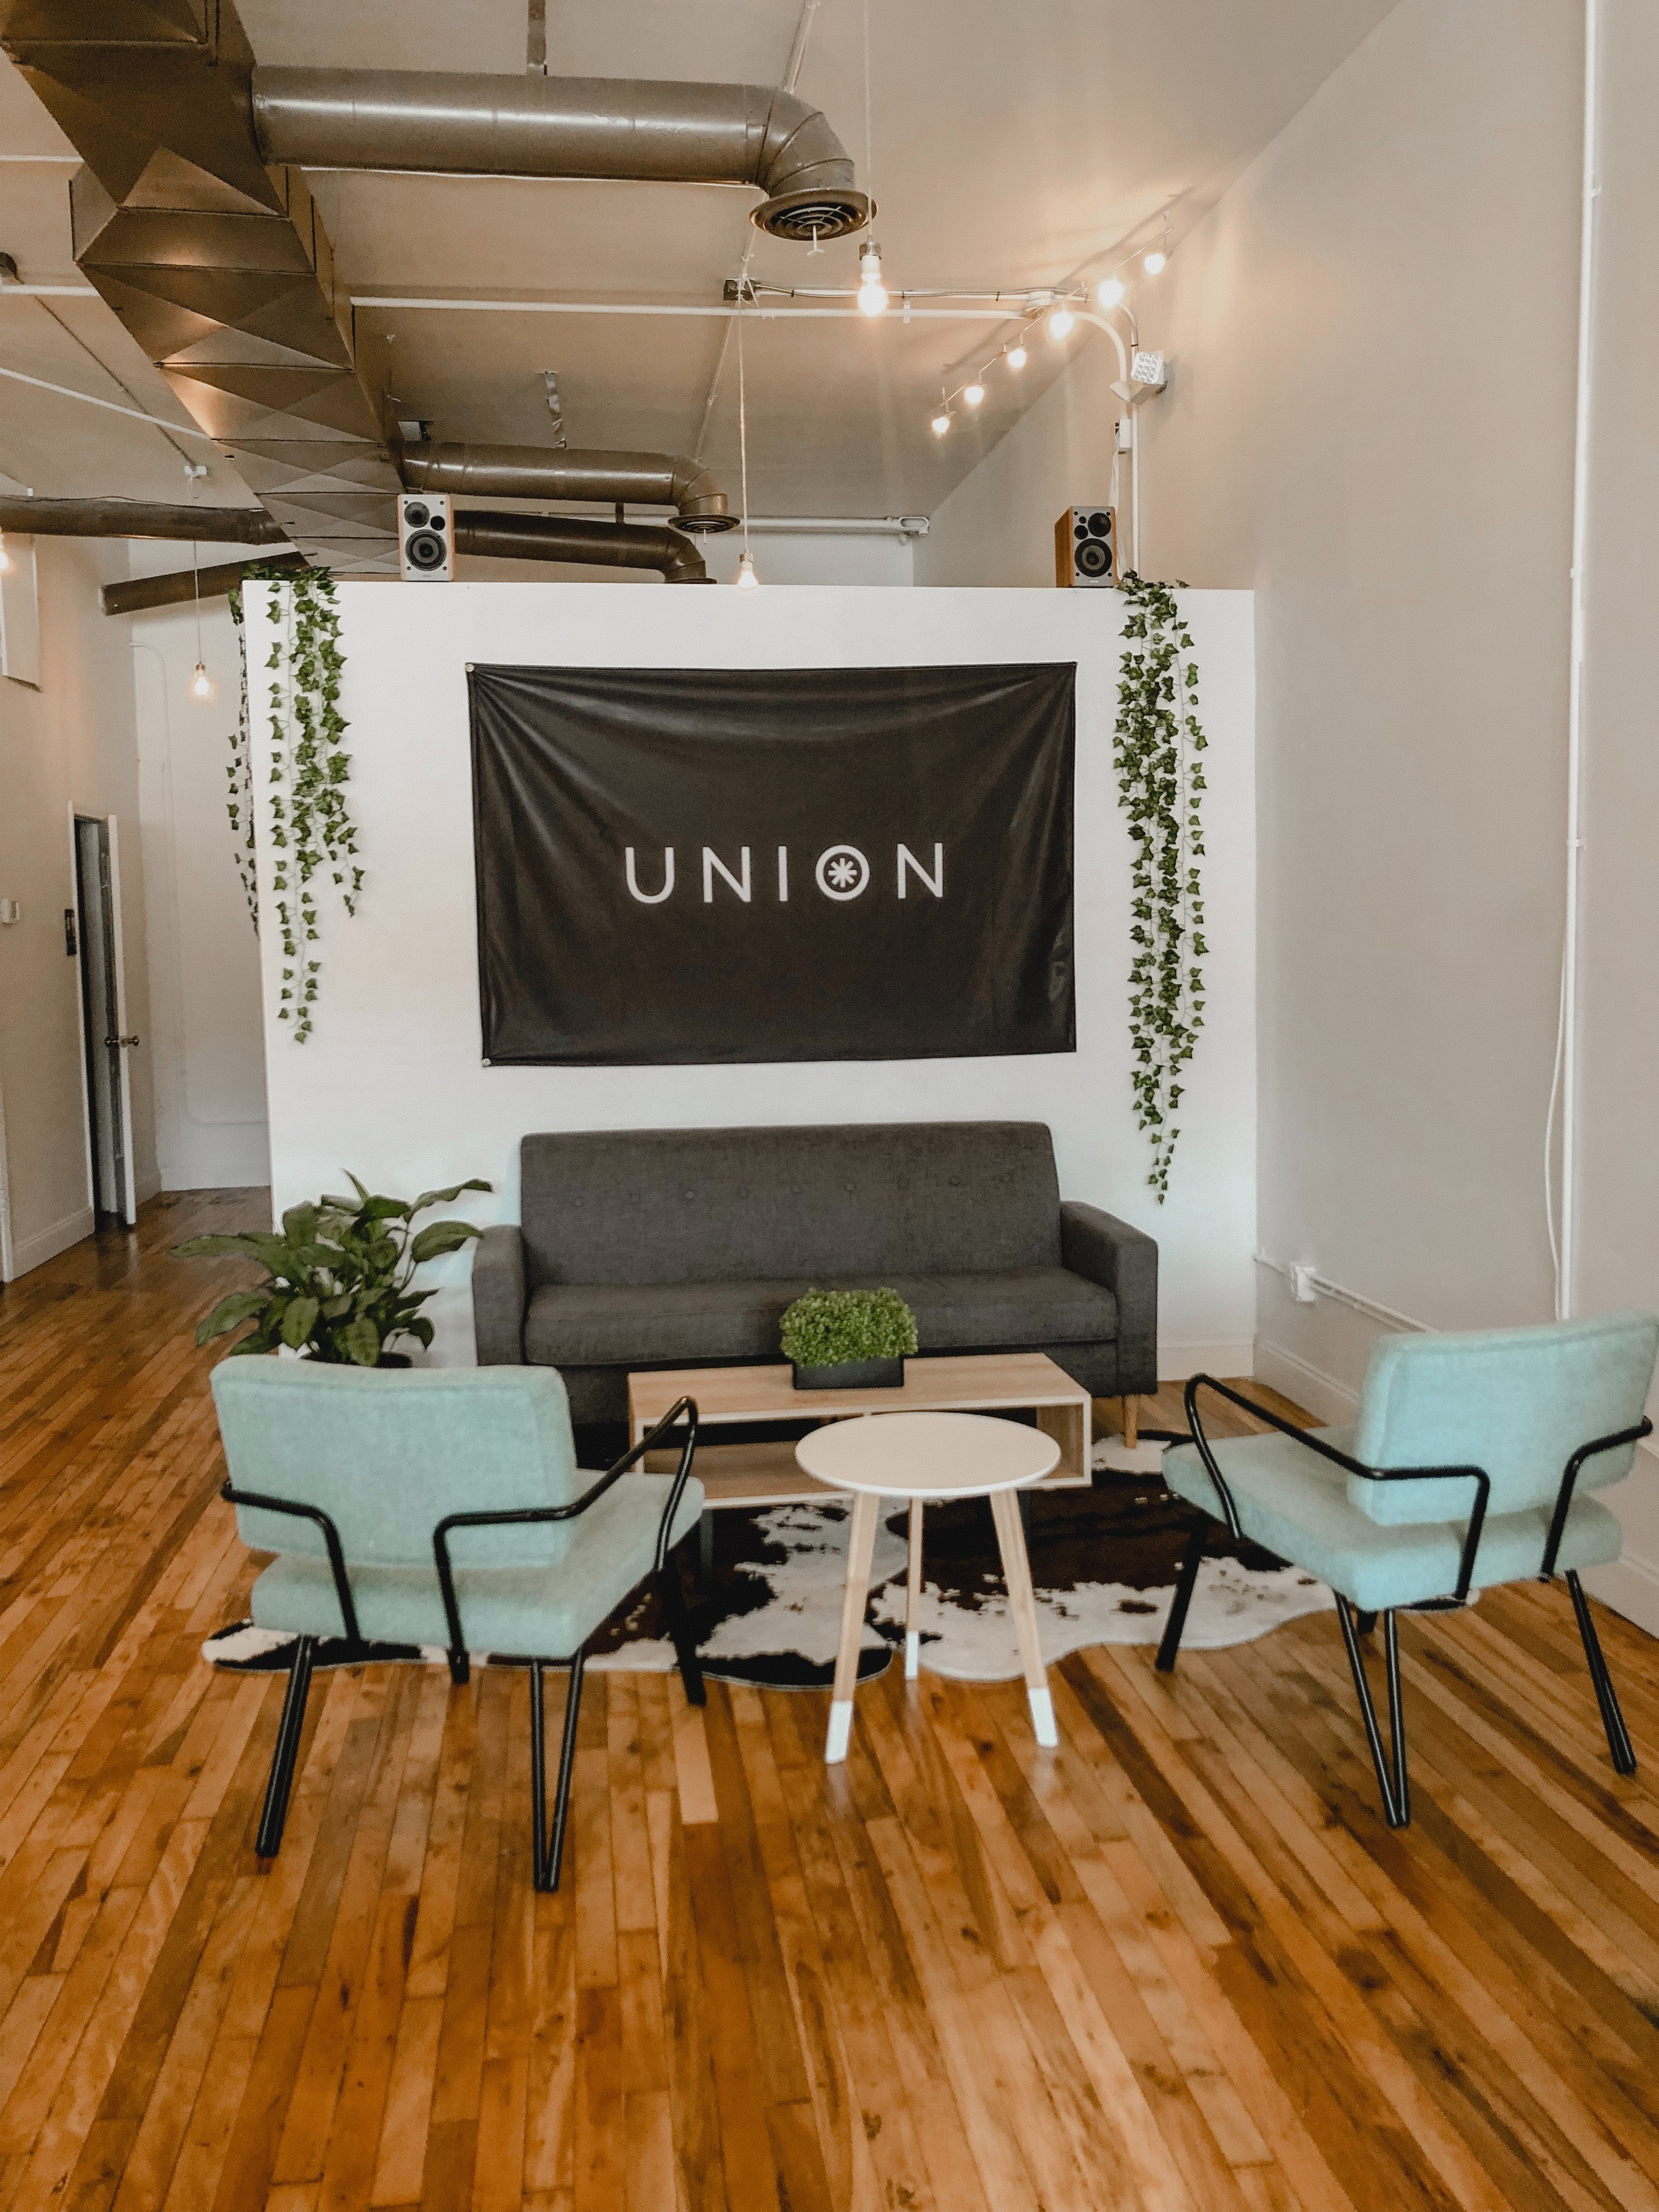Chair: (185, 1336, 725, 1904), (1150, 1322, 1645, 1824)
Painting: (450, 636, 1093, 1075)
Plant: (1100, 554, 1223, 1226), (162, 1167, 505, 1399), (230, 559, 382, 1057)
Sofa: (453, 1106, 1164, 1460)
Table: (767, 1414, 1096, 1777), (605, 1353, 1121, 1519)
